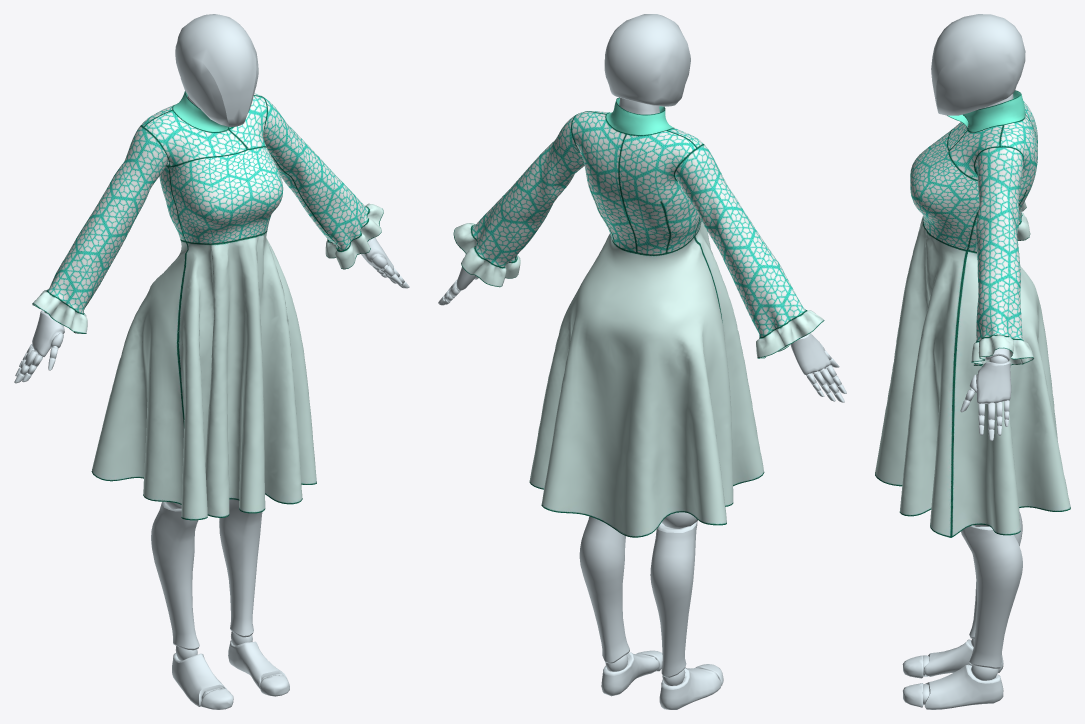
Rendered from inter_elem1.glb.
3 views of the same model, side by side, from view 1: azimuth 30°, elevation 25°; view 2: azimuth 150°, elevation 25°; view 3: azimuth 270°, elevation 25° (orthographic). The views are drawn at different scales.
Parts seen in each view (by area): view 1: Dress_F1_0, Dress_F2_0, Dummy.001_02 - Default_0; view 2: Dress_F1_0, Dress_F2_0, Dummy.001_02 - Default_0; view 3: Dress_F1_0, Dummy.001_02 - Default_0, Dress_F2_0.
Part boxes in pixels (<box>): Dress_F1_0: <box>32,203,383,520</box>; Dress_F2_0: <box>47,91,368,314</box>; Dummy.001_02 - Default_0: <box>14,14,409,709</box>; Dress_F1_0: <box>453,221,824,537</box>; Dress_F2_0: <box>471,97,806,338</box>; Dummy.001_02 - Default_0: <box>438,14,846,709</box>; Dress_F1_0: <box>875,201,1070,537</box>; Dummy.001_02 - Default_0: <box>902,14,1025,709</box>; Dress_F2_0: <box>910,90,1037,342</box>.
Bounding box in the file's own units: 1.09 × 1.75 × 0.4627.
3 materials, 2 textured.
